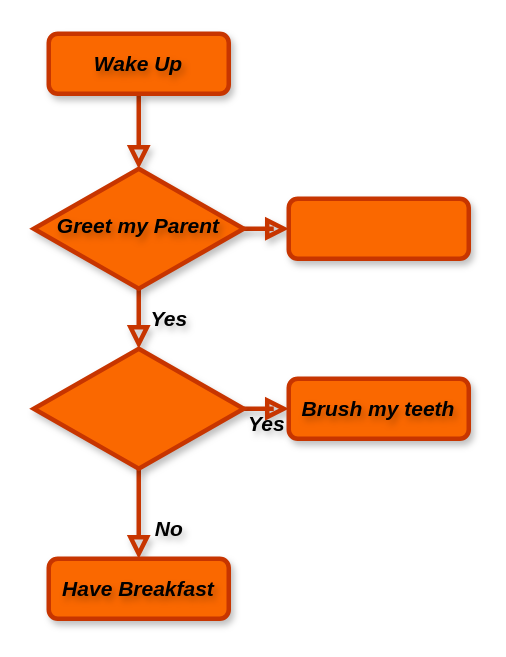
Image size: 506x657. Some labels were removed from this diagram. Here are the shapes that lost their labels. From the top down, the centre of each, then its label:
the point at 379,230: I Pray
the point at 139,410: Take my Bath
